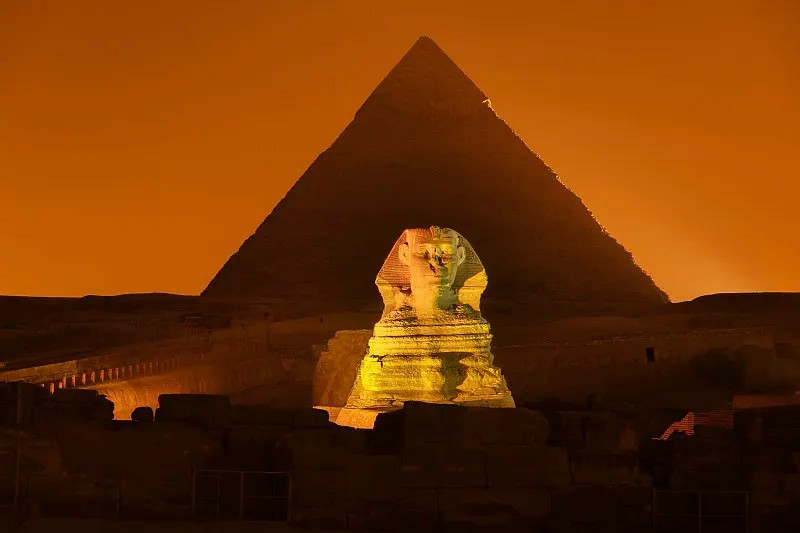Pyramid: (203, 38, 672, 304)
